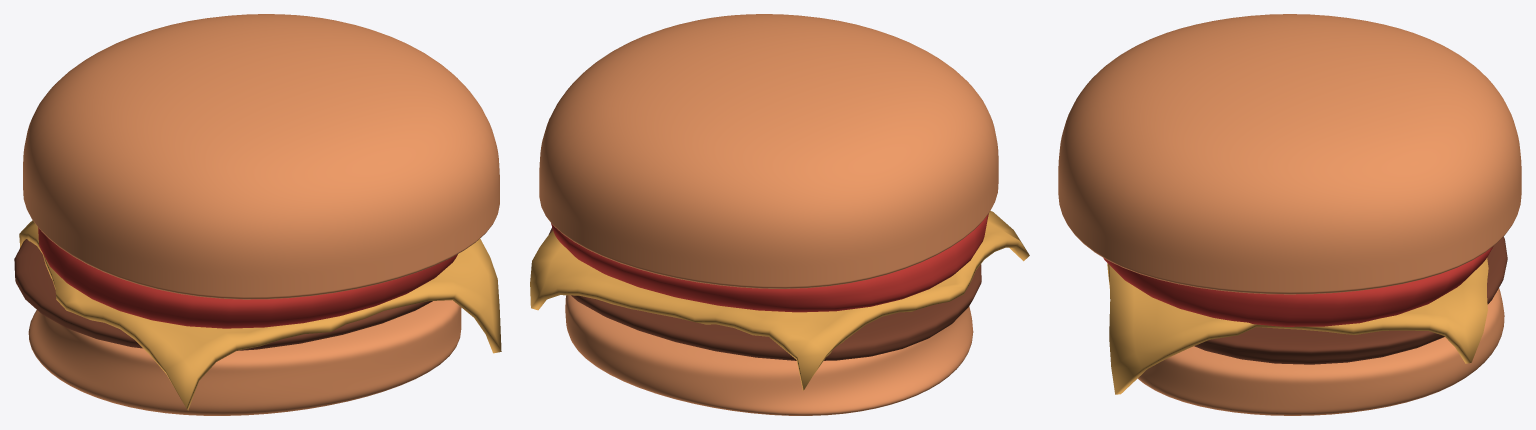
Rendered from hamburger.glb.
3 views of the same model, side by side, from view 1: azimuth 30°, elevation 25°; view 2: azimuth 150°, elevation 25°; view 3: azimuth 270°, elevation 25° (orthographic). The views are drawn at different scales.
Visible parts, largest first — view 1: top bun, bottom bun, chease, tomato, meat; view 2: top bun, bottom bun, chease, tomato, meat; view 3: top bun, bottom bun, chease, tomato, meat.
Part boxes in pixels (left/top/right/bottom): top bun: left=23, top=14, right=499, bottom=299; bottom bun: left=28, top=300, right=461, bottom=415; chease: left=19, top=220, right=501, bottom=410; tomato: left=38, top=227, right=457, bottom=328; meat: left=14, top=239, right=432, bottom=350; top bun: left=539, top=14, right=998, bottom=288; bottom bun: left=565, top=295, right=973, bottom=415; chease: left=530, top=211, right=1029, bottom=390; tomato: left=551, top=213, right=988, bottom=312; meat: left=548, top=227, right=981, bottom=360; top bun: left=1058, top=14, right=1521, bottom=294; bottom bun: left=1138, top=288, right=1504, bottom=415; chease: left=1107, top=258, right=1488, bottom=394; tomato: left=1103, top=246, right=1493, bottom=326; meat: left=1194, top=236, right=1507, bottom=364.
Bounding box in the file's own units: 10.63 × 7.09 × 10.47.
